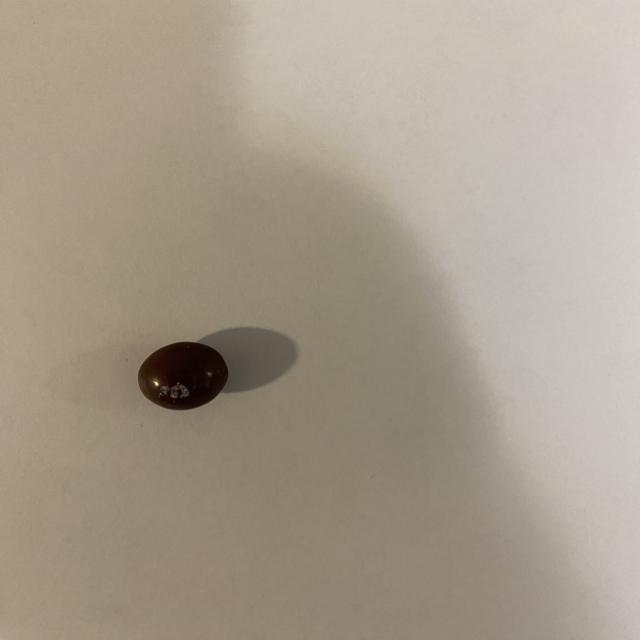smartie: (138, 342, 227, 410)
